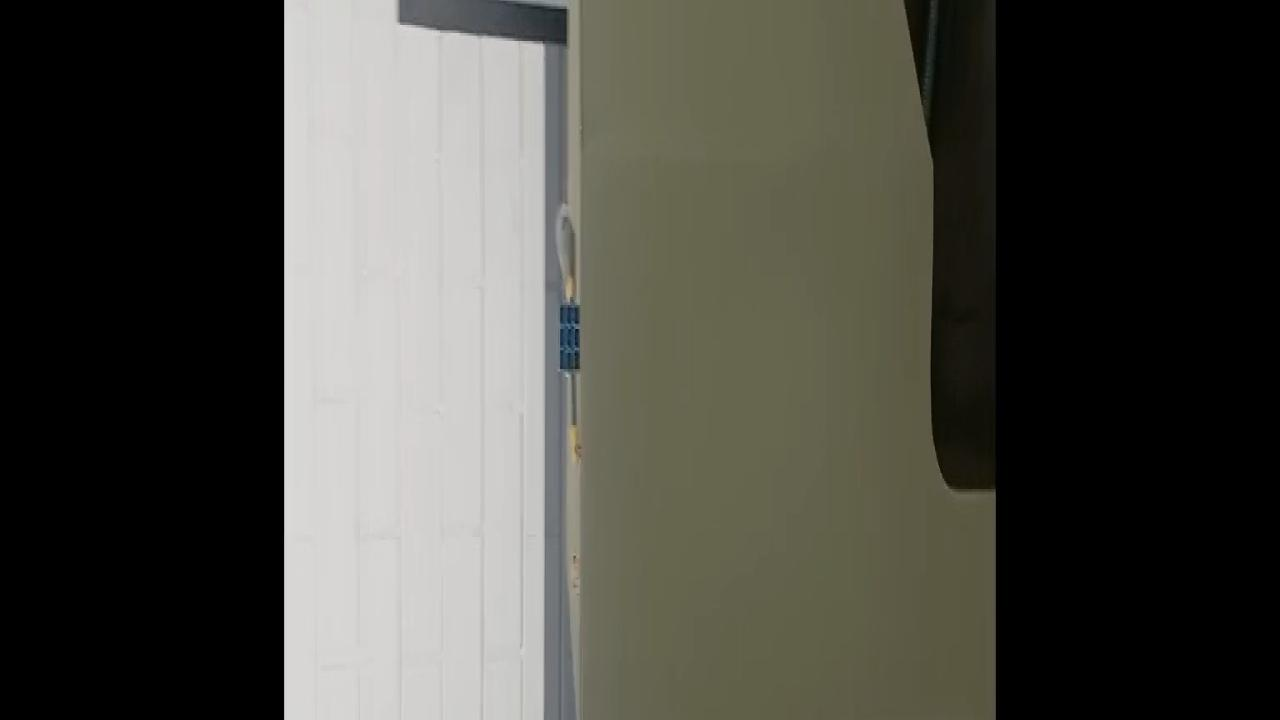Cube: (560, 303, 580, 371)
